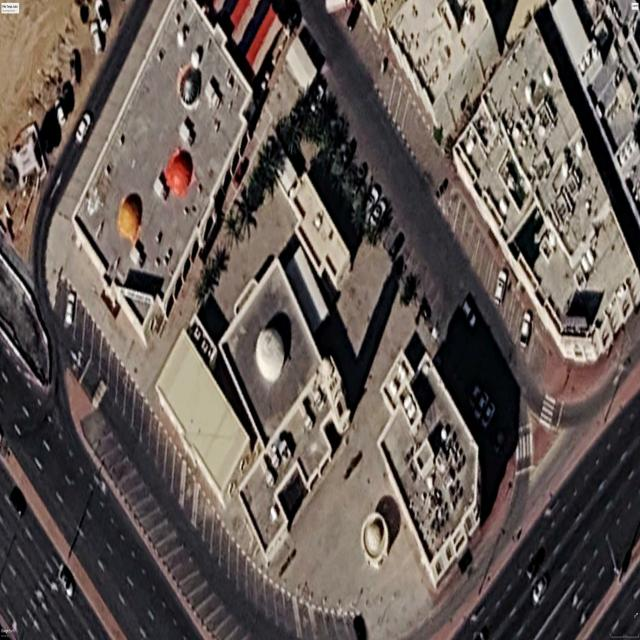mosque: (218, 258, 350, 563)
